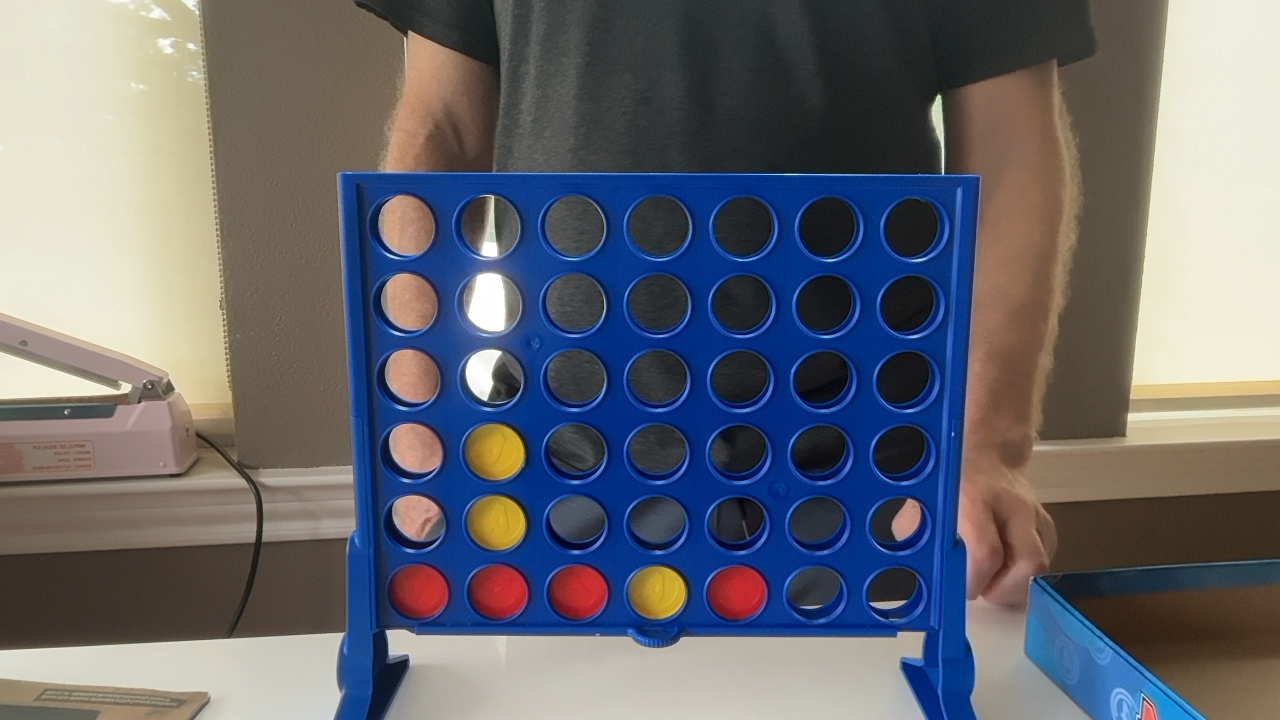red piece: (467, 564, 528, 620), (706, 565, 766, 621), (388, 564, 448, 619), (547, 565, 607, 620)
yellow piece: (464, 423, 525, 480), (466, 495, 526, 550), (627, 565, 686, 620)
